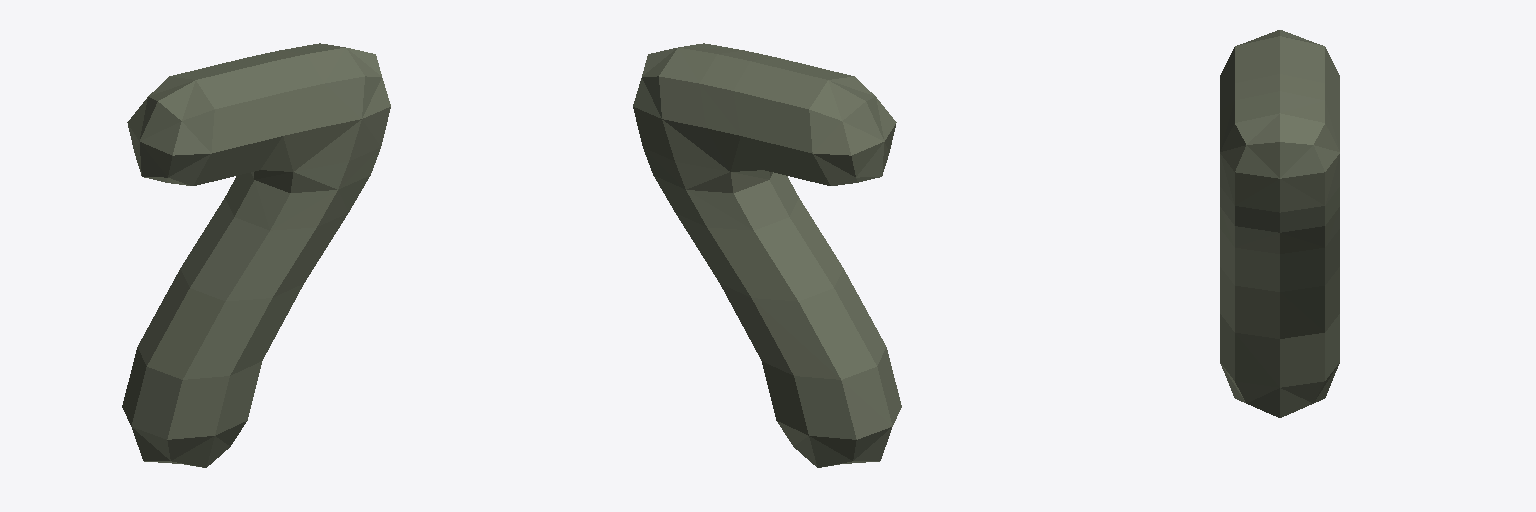
The model's file is Numbers_7.obj.
The picture shows the model from 3 angles: view 1: azimuth 30°, elevation 25°; view 2: azimuth 150°, elevation 25°; view 3: azimuth 270°, elevation 25°; orthographic projection.
Visible parts, largest first — view 1: Numbers_7_Cube.039; view 2: Numbers_7_Cube.039; view 3: Numbers_7_Cube.039.
Part boxes in pixels (x1,y1,x2,y2): Numbers_7_Cube.039: (122,43,390,467); Numbers_7_Cube.039: (633,43,901,467); Numbers_7_Cube.039: (1220,30,1339,417).
Bounding box in the file's own units: 0.7687 × 1.12 × 0.3219.